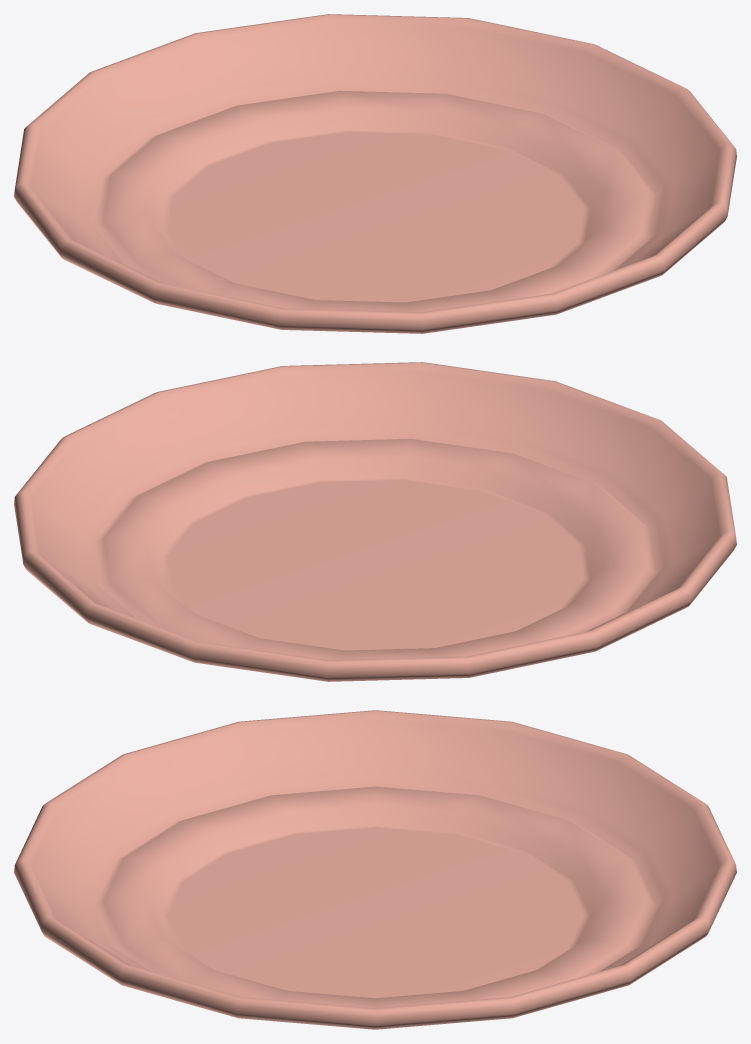
File: Plate.fbx
The picture shows the model from 3 angles, top to bottom: view 1: azimuth 30°, elevation 25°; view 2: azimuth 150°, elevation 25°; view 3: azimuth 270°, elevation 25°; orthographic projection.
Visible parts, largest first — view 1: Plate; view 2: Plate; view 3: Plate.
Boxes of the visible parts, <box> form: Plate: <box>14,14,736,333</box>; Plate: <box>14,362,736,681</box>; Plate: <box>14,710,736,1029</box>.
Size of the model in its own units: 81.71 by 7.13 by 81.71.
